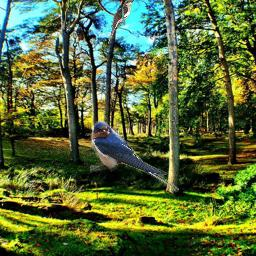Cuckoo: (108, 0, 134, 44)
Swallow: (90, 121, 179, 192)
